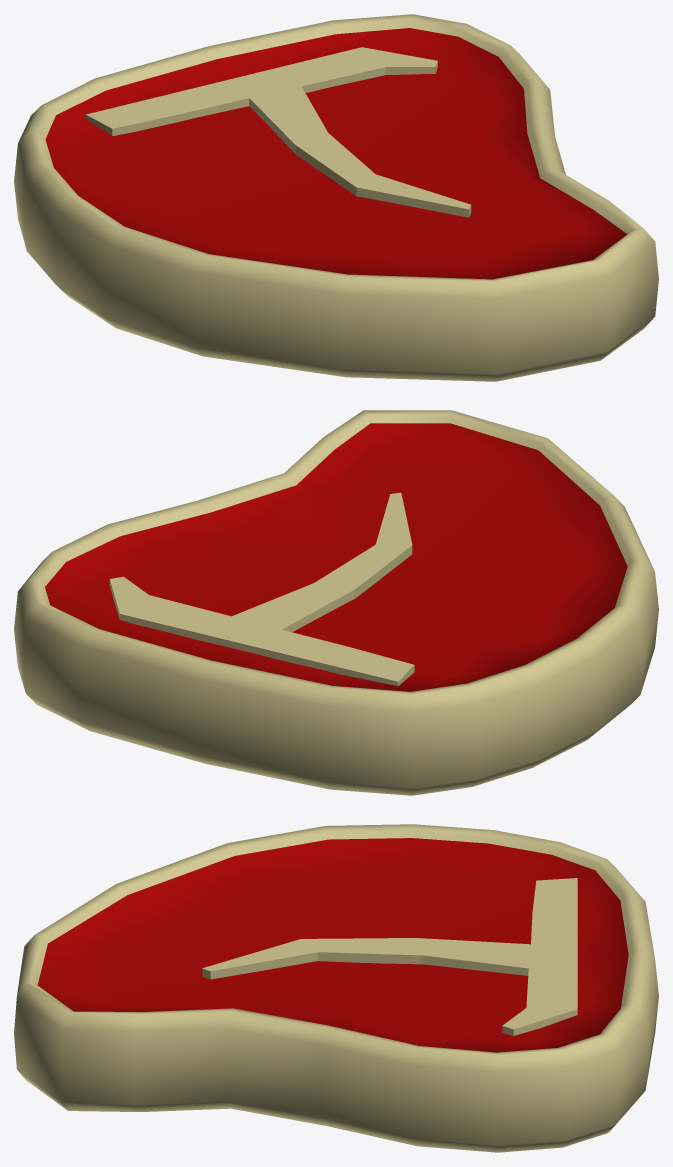
The model's file is Steak2.FBX.
The picture shows the model from 3 angles, top to bottom: view 1: azimuth 30°, elevation 25°; view 2: azimuth 150°, elevation 25°; view 3: azimuth 270°, elevation 25°; orthographic projection. The views are drawn at different scales.
Parts seen in each view (by area): view 1: Line001; view 2: Line001; view 3: Line001.
Boxes of the visible parts, x1=… form: Line001: x1=14, y1=14, x2=658, y2=381; Line001: x1=14, y1=410, x2=658, y2=795; Line001: x1=14, y1=824, x2=658, y2=1152.
Bounding box in the file's own units: 36.02 × 6.7 × 40.24.
